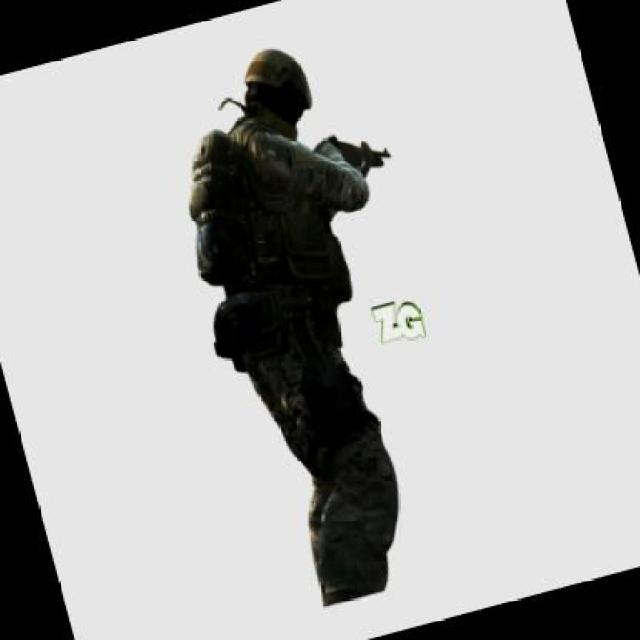MIL_Pax: (138, 25, 474, 618)
